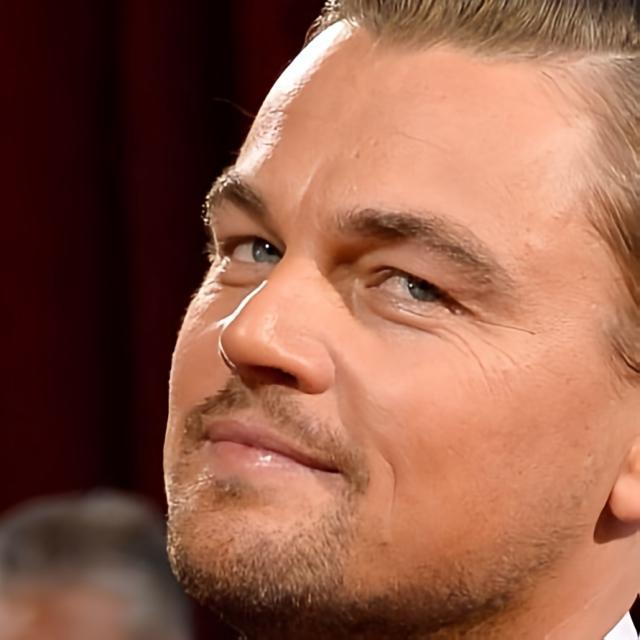neutral: (159, 0, 640, 634)
